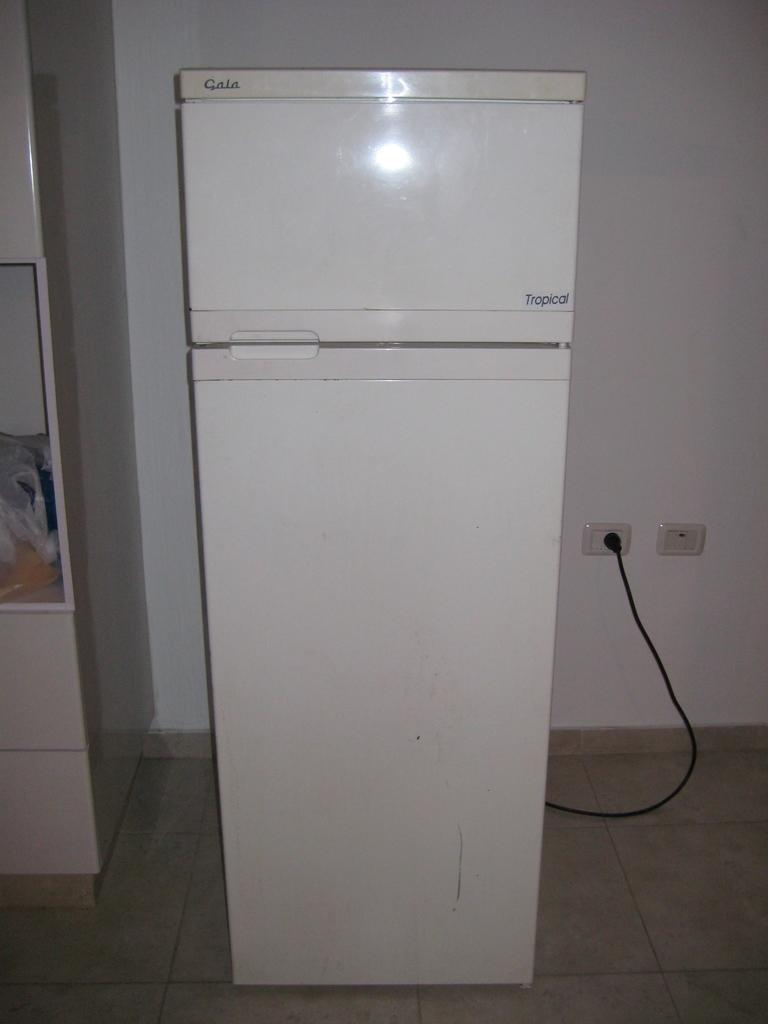handle: (218, 328, 322, 372)
